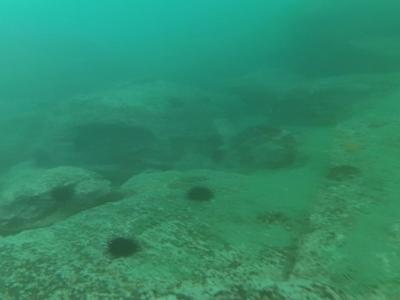urchin: (107, 235, 142, 259), (185, 184, 216, 202), (49, 183, 74, 203)
